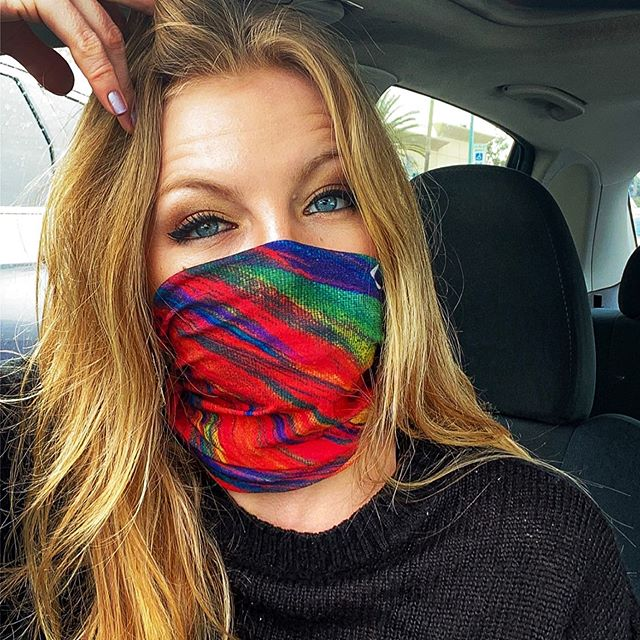homemade: (133, 256, 407, 490)
